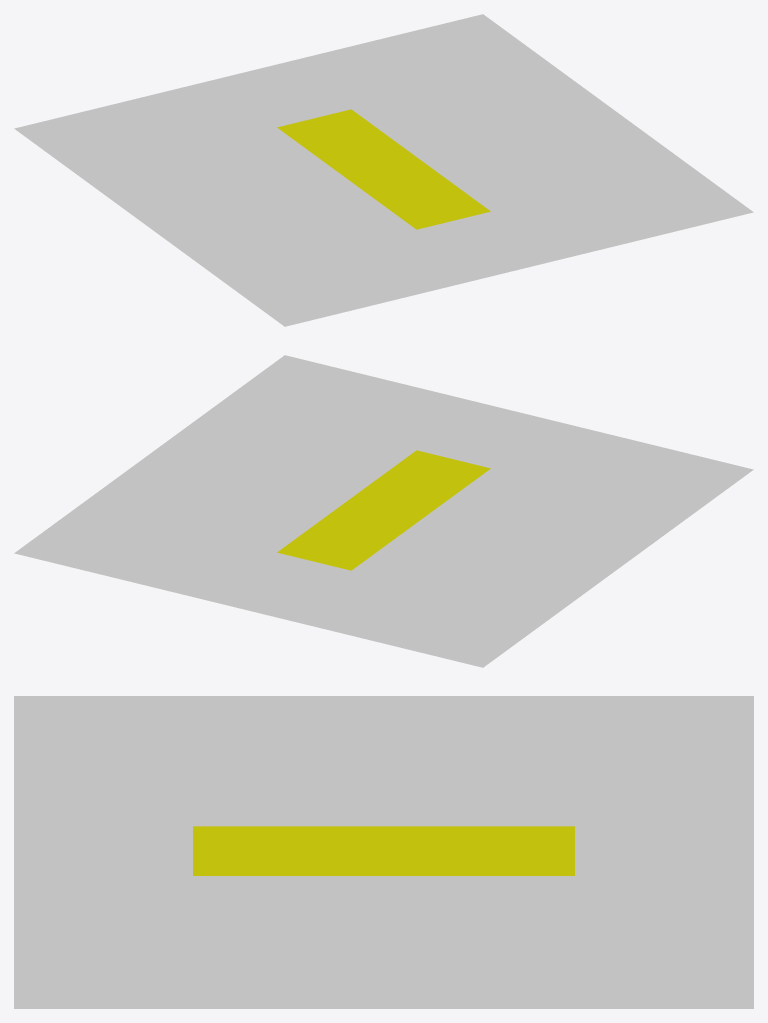
Rendered from road-type-1.glb.
The picture shows the model from 3 angles, top to bottom: view 1: azimuth 30°, elevation 25°; view 2: azimuth 150°, elevation 25°; view 3: azimuth 270°, elevation 25°; orthographic projection. The views are drawn at different scales.
Visible parts, largest first — view 1: surface, marker; view 2: surface, marker; view 3: surface, marker.
Part boxes in pixels (x1,y1,x2,y2): surface: (14,14,753,326); marker: (277,109,490,229); surface: (14,355,753,667); marker: (277,450,490,570); surface: (14,696,753,1008); marker: (193,826,574,875).
Bounding box in the file's own units: 0.504 × 0.001 × 0.504.
